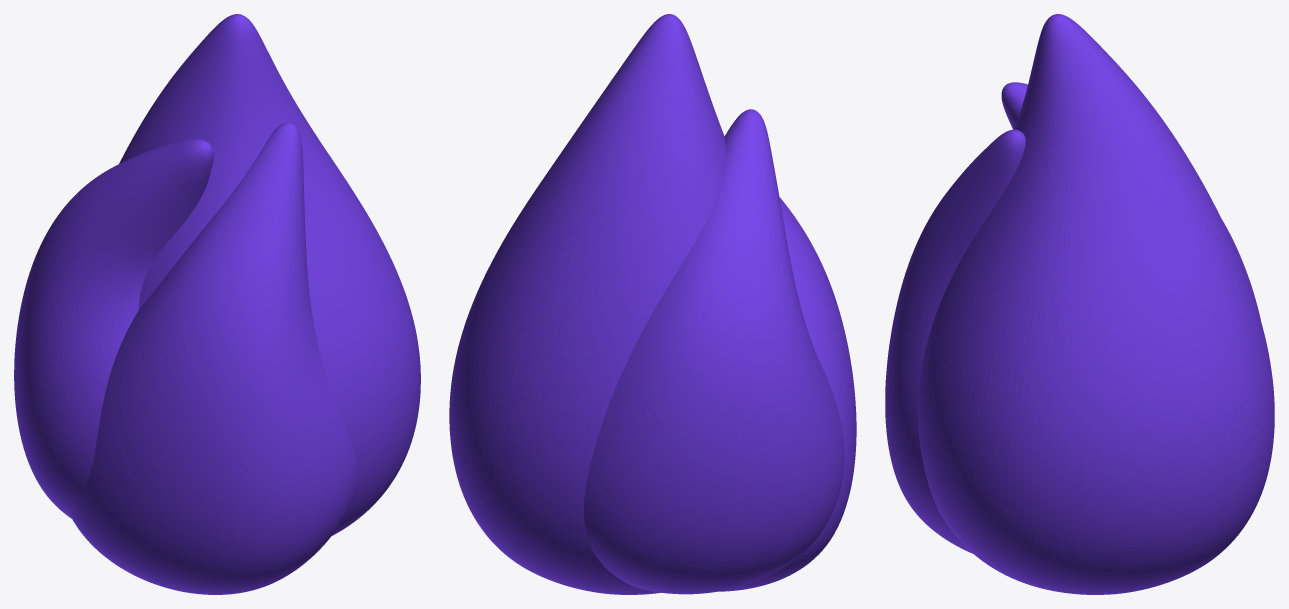
File: soul.fbx
3 views of the same model, side by side, from view 1: azimuth 30°, elevation 25°; view 2: azimuth 150°, elevation 25°; view 3: azimuth 270°, elevation 25° (orthographic).
Parts seen in each view (by area): view 1: Cube; view 2: Cube; view 3: Cube.
Boxes of the visible parts, x1=… form: Cube: x1=14, y1=14, x2=420, y2=594; Cube: x1=449, y1=14, x2=856, y2=594; Cube: x1=885, y1=14, x2=1274, y2=594.
Bounding box in the file's own units: 50.31 × 74.38 × 47.25.
